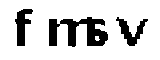6: (90, 16, 112, 49)
f: (8, 4, 36, 55)
m: (43, 12, 92, 50)
v: (115, 12, 152, 50)
